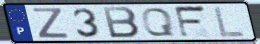3: (72, 7, 101, 39)
B: (101, 6, 142, 39)
F: (172, 4, 209, 39)
L: (212, 5, 248, 38)
Q: (140, 7, 177, 38)
Z: (31, 7, 71, 39)
